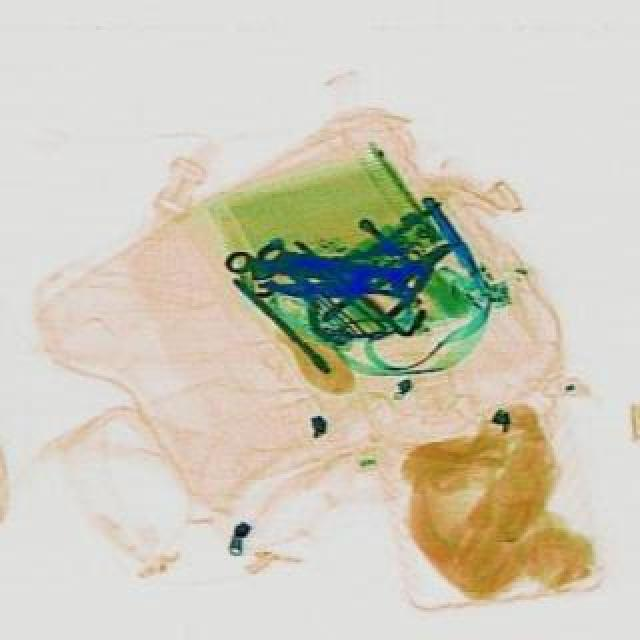scissors: (220, 240, 428, 296)
